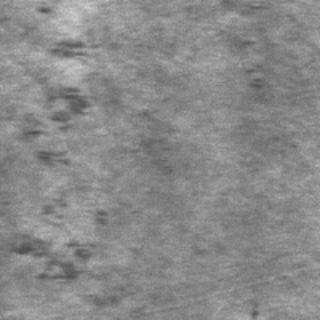rolled pit: (8, 34, 104, 282), (230, 18, 278, 94)
